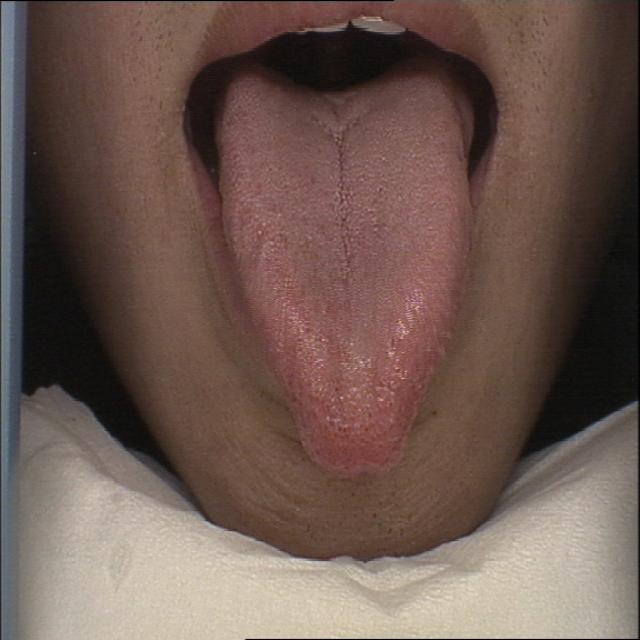tongue: (215, 62, 502, 484)
